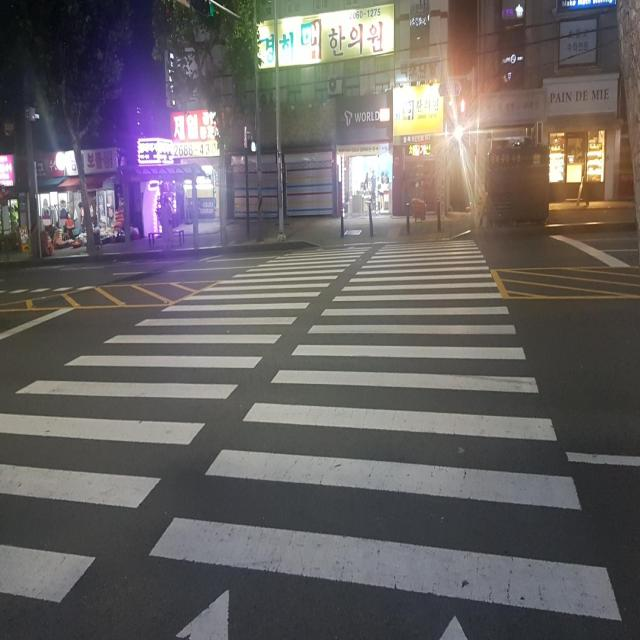빨간불: (457, 94, 469, 137)
횡단보도: (0, 240, 622, 640)
